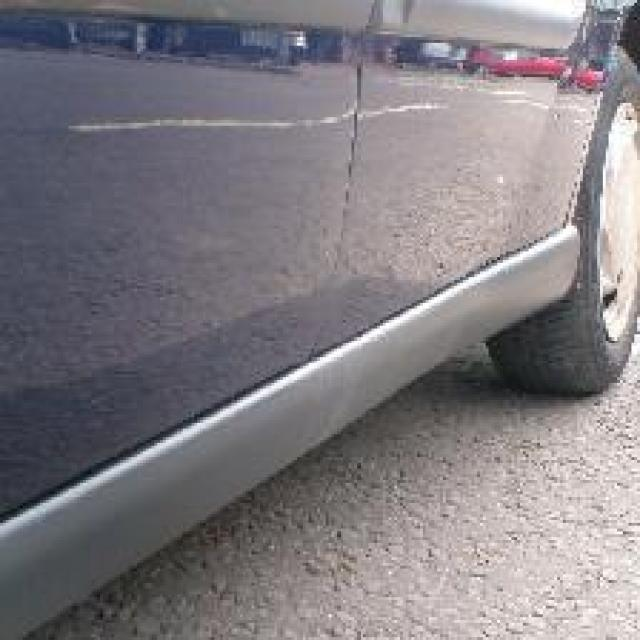damaged: (66, 91, 603, 143)
